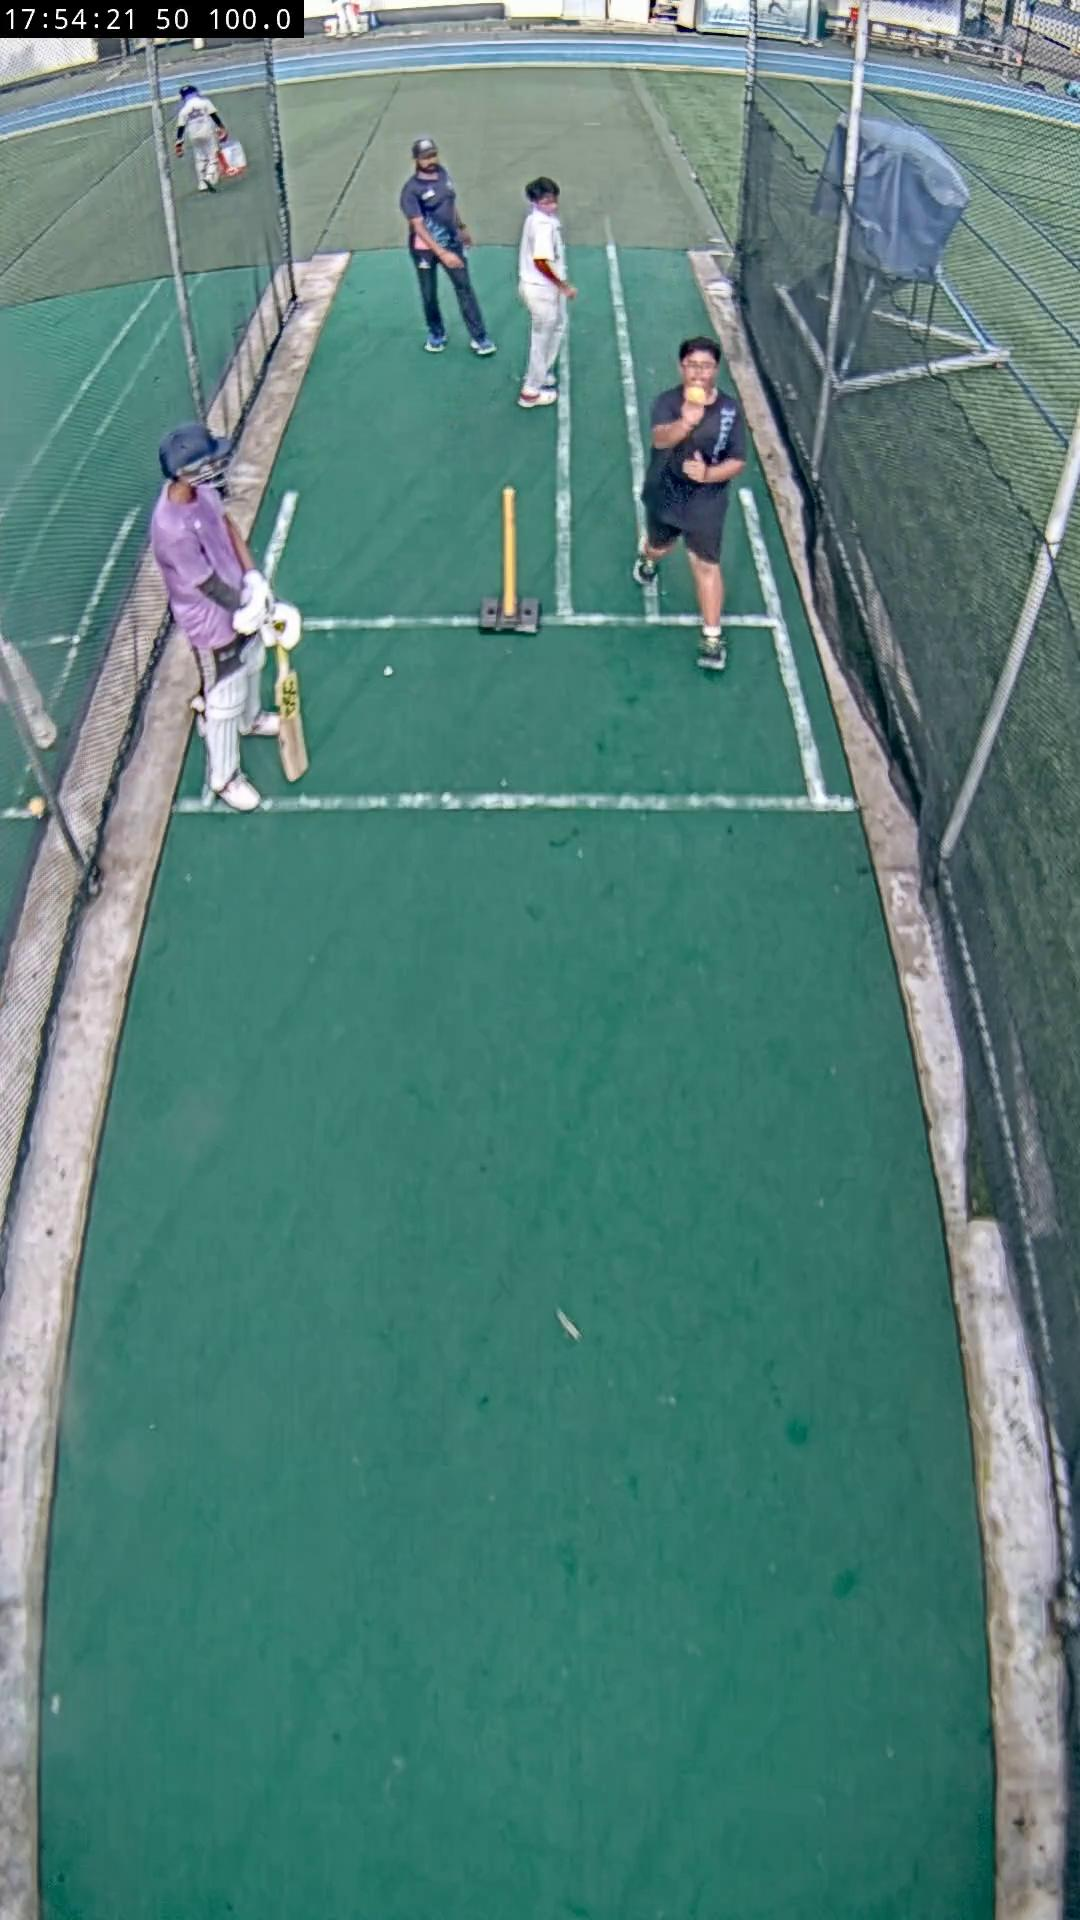ball: (686, 386, 705, 404)
stumps: (480, 488, 541, 634)
